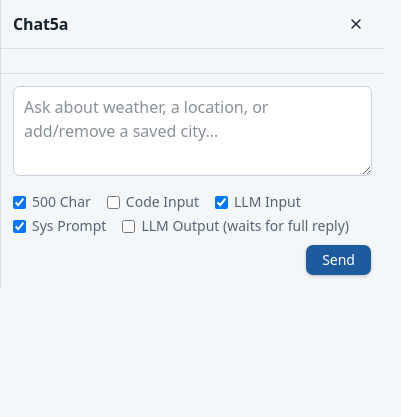
Test: renders a blocked event as a blocked entry
The width and height of the screenshot is (401, 417).
Type "Tell me a joke." into the text box named "message".
click(192, 131); type("Tell me a joke.")  # box x1=13 y1=86 x2=372 y2=176
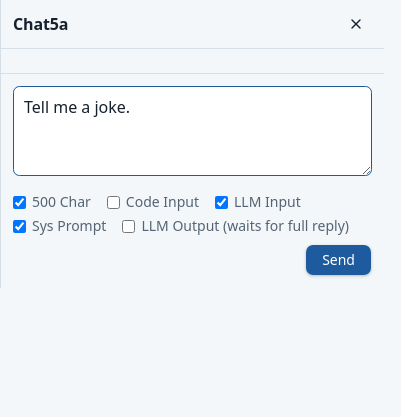
Click the button "Send".
click(339, 260)  # box x1=305 y1=244 x2=372 y2=276
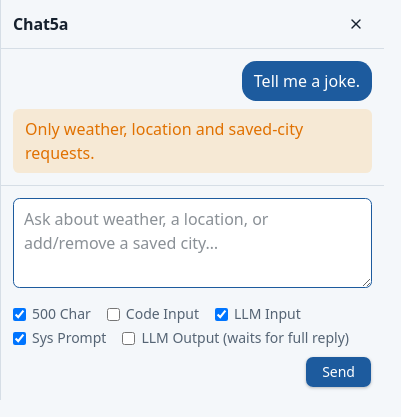
Expected: the text "Only weather, location and saved-city requests." is shown, x1=13 y1=109 x2=372 y2=173
